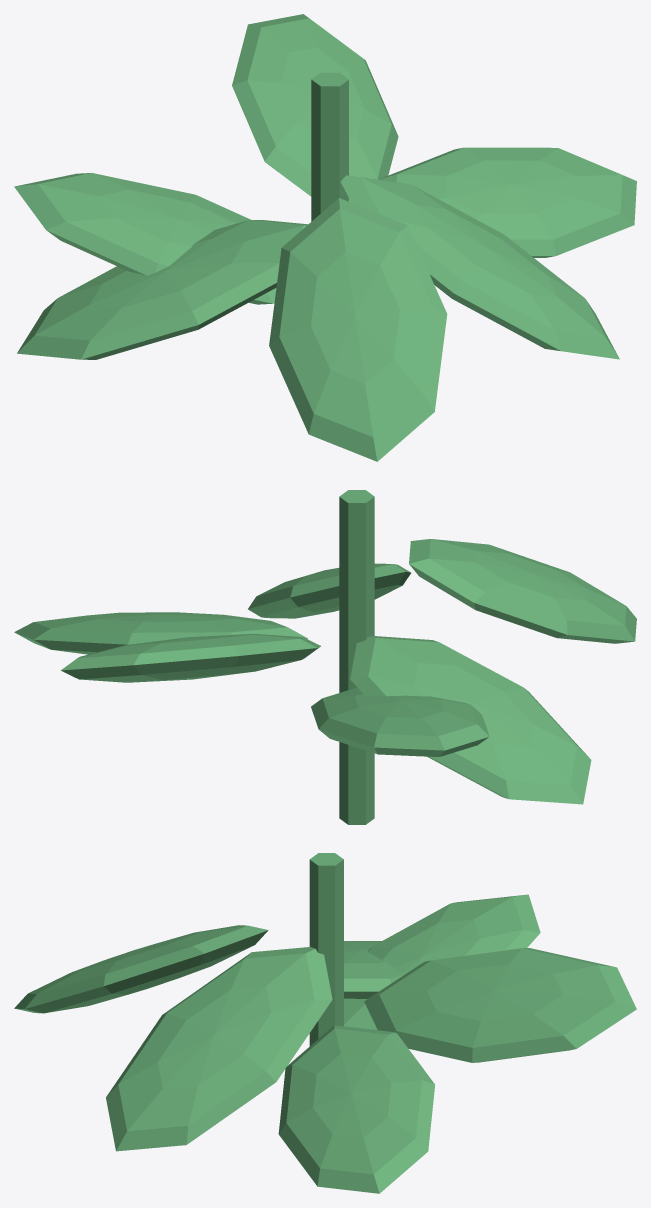
The model's file is vegetation_jungle.glb.
3 views of the same model, one above another, from view 1: azimuth 30°, elevation 25°; view 2: azimuth 150°, elevation 25°; view 3: azimuth 270°, elevation 25° (orthographic). The views are drawn at different scales.
Visible parts, largest first — view 1: Plant_Jungle; view 2: Plant_Jungle; view 3: Plant_Jungle.
Part boxes in pixels (x1,y1,x2,y2): Plant_Jungle: (14, 14, 636, 461); Plant_Jungle: (14, 490, 636, 824); Plant_Jungle: (14, 853, 636, 1193).
Bounding box in the file's own units: 3.75 × 2 × 3.64.
